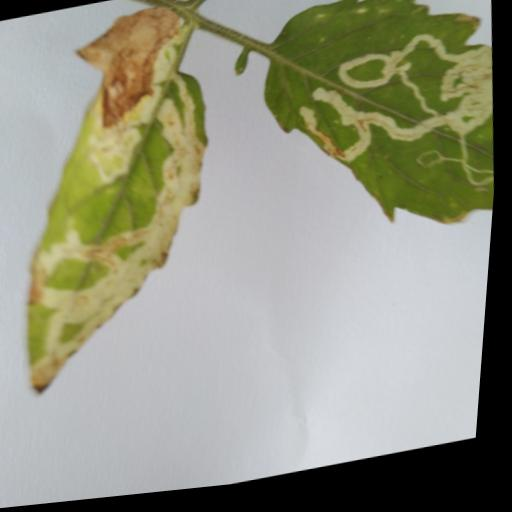Leaf_Miner: (0, 0, 242, 407), (248, 0, 511, 267)
